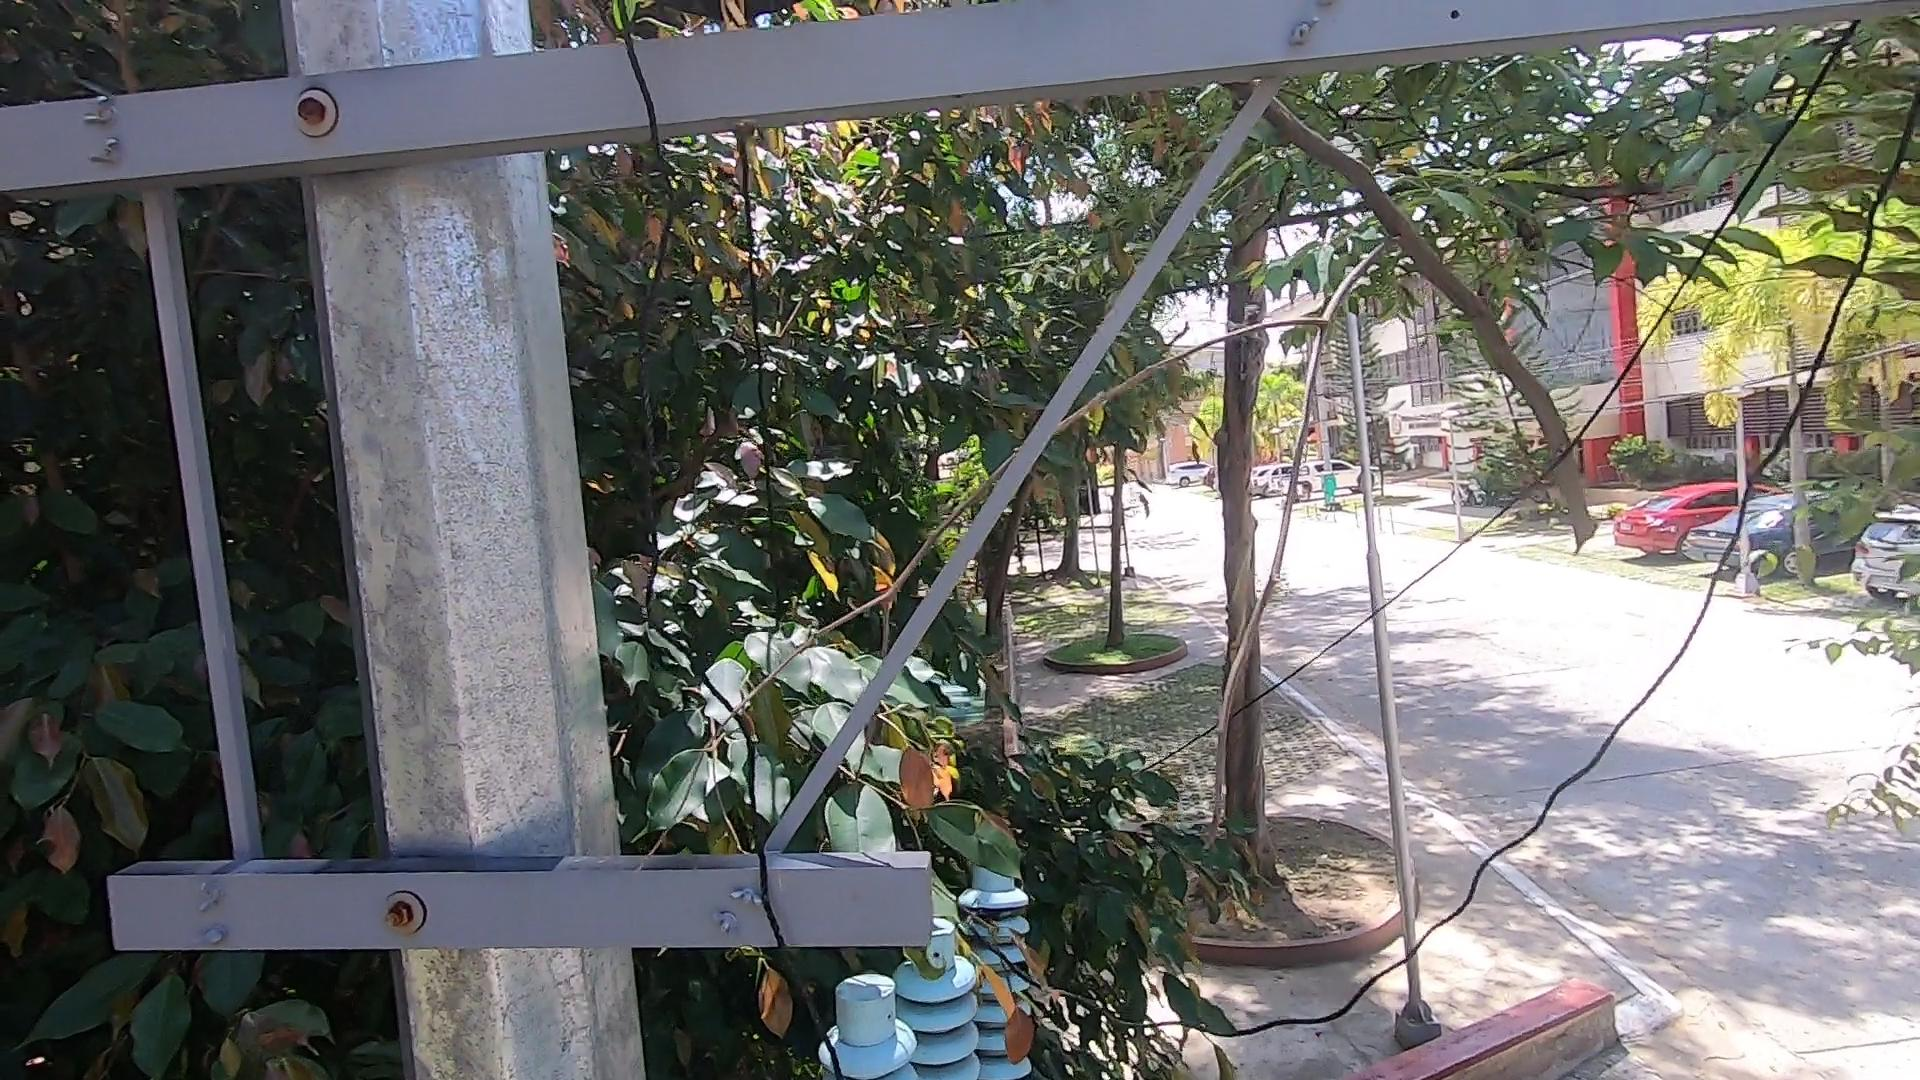tree branch: (628, 15, 1640, 862)
